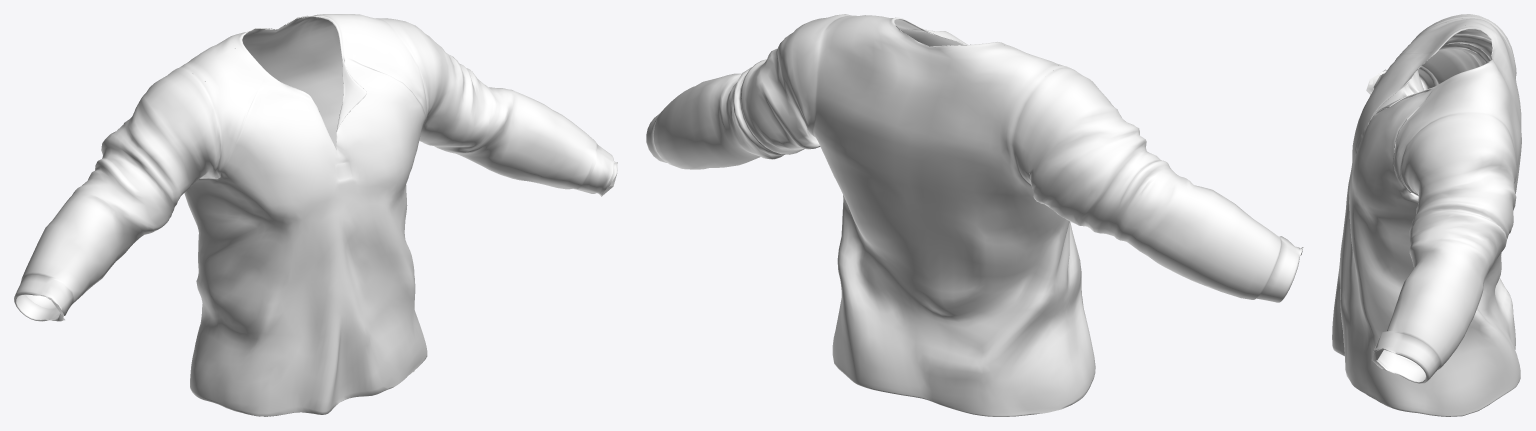
The model's file is LongSleeve.glb.
3 views of the same model, side by side, from view 1: azimuth 30°, elevation 25°; view 2: azimuth 150°, elevation 25°; view 3: azimuth 270°, elevation 25° (orthographic). The views are drawn at different scales.
Parts seen in each view (by area): view 1: Newport_Shirt_10879.001; view 2: Newport_Shirt_10879.001; view 3: Newport_Shirt_10879.001.
Boxes of the visible parts, left/top/right/bottom form: Newport_Shirt_10879.001: left=14, top=14, right=617, bottom=416; Newport_Shirt_10879.001: left=646, top=14, right=1303, bottom=416; Newport_Shirt_10879.001: left=1332, top=14, right=1521, bottom=416.
Size of the model in its own units: 22.29 by 11.84 by 6.37.
Materials: 1 (1 with a texture image).
